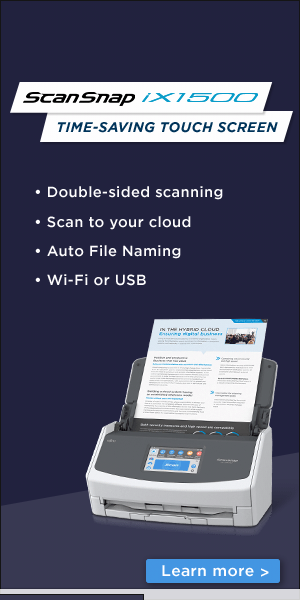fake_button: (142, 551, 291, 588)
